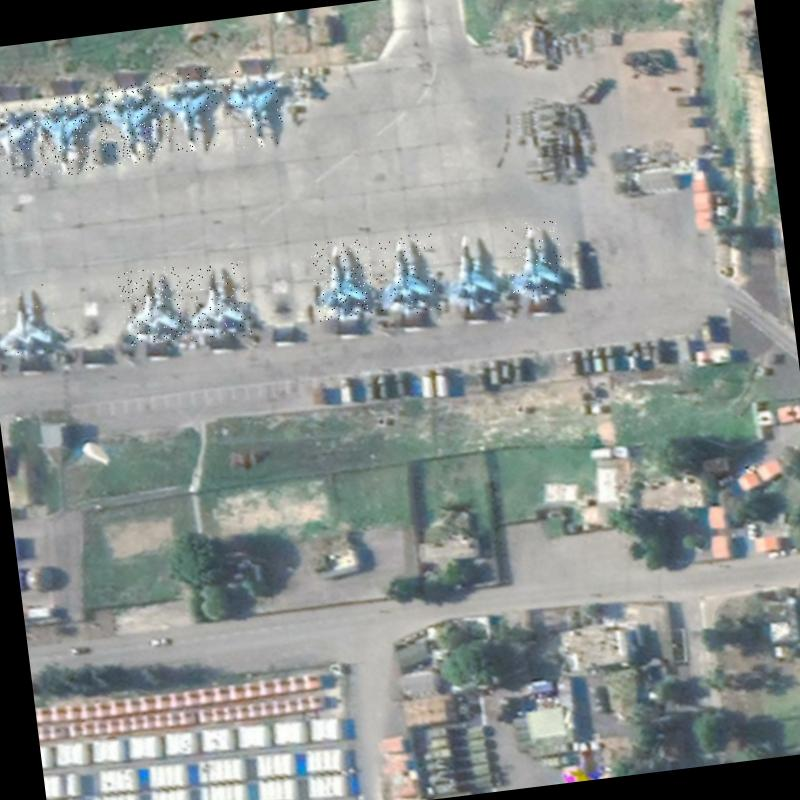A1: (182, 260, 253, 342), (117, 265, 188, 346), (0, 281, 61, 365), (0, 101, 42, 180)
A19: (436, 227, 505, 316), (500, 218, 569, 306), (95, 81, 166, 166), (155, 66, 223, 154), (217, 64, 286, 150), (371, 231, 440, 317), (310, 237, 376, 321), (33, 94, 98, 178)
